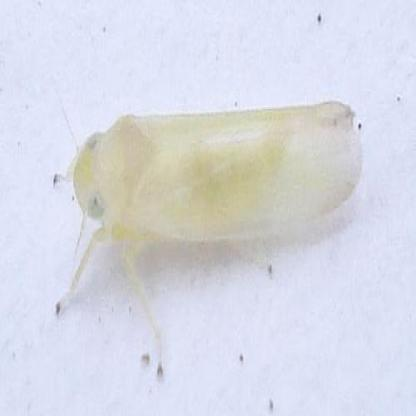green-leafhopper: (55, 103, 364, 382)
